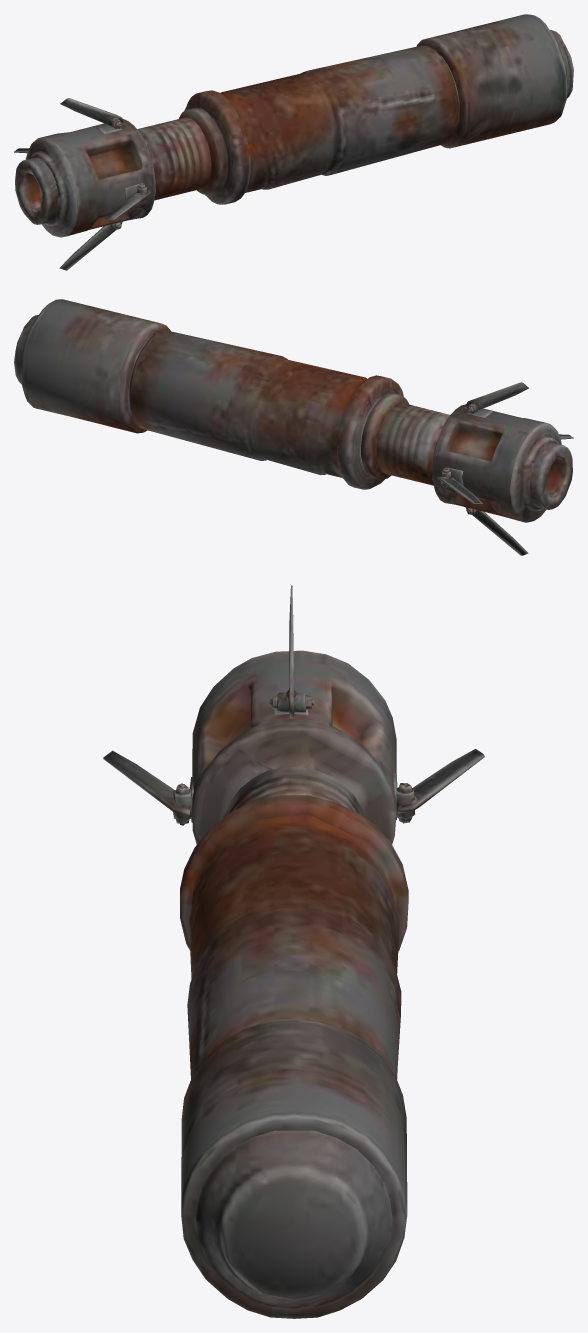
Rendered from rpg4.glb.
3 renders of one model, top to bottom at view 1: azimuth 30°, elevation 25°; view 2: azimuth 150°, elevation 25°; view 3: azimuth 270°, elevation 25°, orthographic. The views are drawn at different scales.
Parts seen in each view (by area): view 1: rpg4_LOD0; view 2: rpg4_LOD0; view 3: rpg4_LOD0.
Part boxes in pixels (x1,y1,x2,y2): rpg4_LOD0: (14, 14, 573, 270); rpg4_LOD0: (14, 299, 573, 555); rpg4_LOD0: (103, 585, 484, 1318).
Bounding box in the file's own units: 0.1663 × 0.0523 × 0.0523.
Materials: 1 (1 with a texture image).
